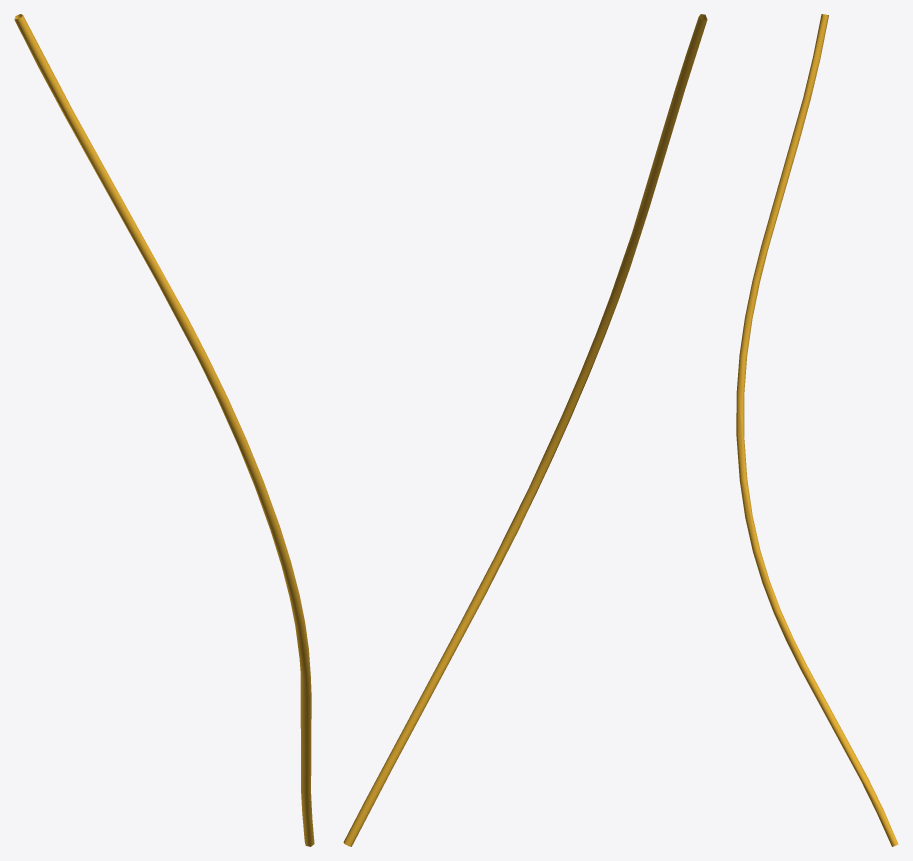
Rendered from nervoso-medial-crural-cutaneous-branches-of-saphenous-nerve-r.glb.
3 views of the same model, side by side, from view 1: azimuth 30°, elevation 25°; view 2: azimuth 150°, elevation 25°; view 3: azimuth 270°, elevation 25° (orthographic). The views are drawn at different scales.
Parts seen in each view (by area): view 1: Medial crural cutaneous branches of saphenous nerve.r; view 2: Medial crural cutaneous branches of saphenous nerve.r; view 3: Medial crural cutaneous branches of saphenous nerve.r.
Boxes of the visible parts, x1,y1,x2,y2 form: Medial crural cutaneous branches of saphenous nerve.r: [14, 14, 314, 846]; Medial crural cutaneous branches of saphenous nerve.r: [343, 14, 707, 846]; Medial crural cutaneous branches of saphenous nerve.r: [736, 14, 898, 846].
Size of the model in its own units: 0.0386 by 0.1008 by 0.0209.
